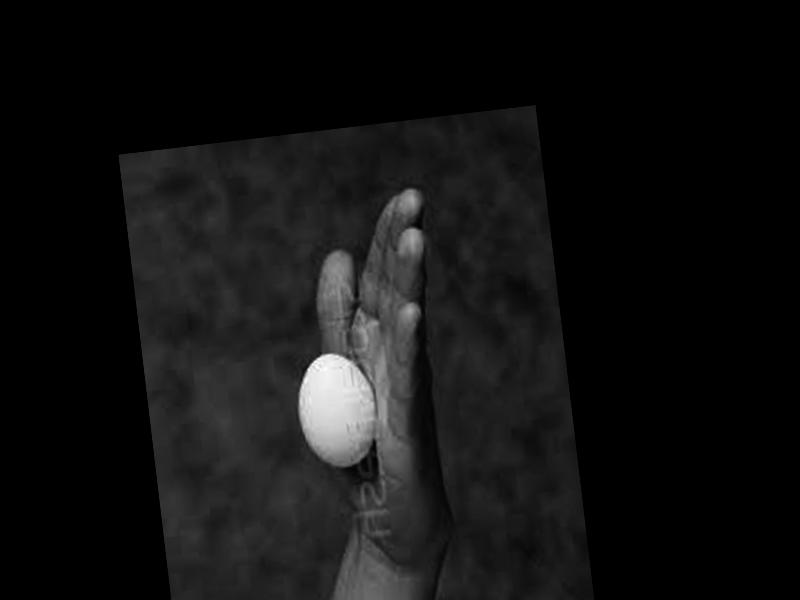Eggs: (290, 349, 382, 472)
